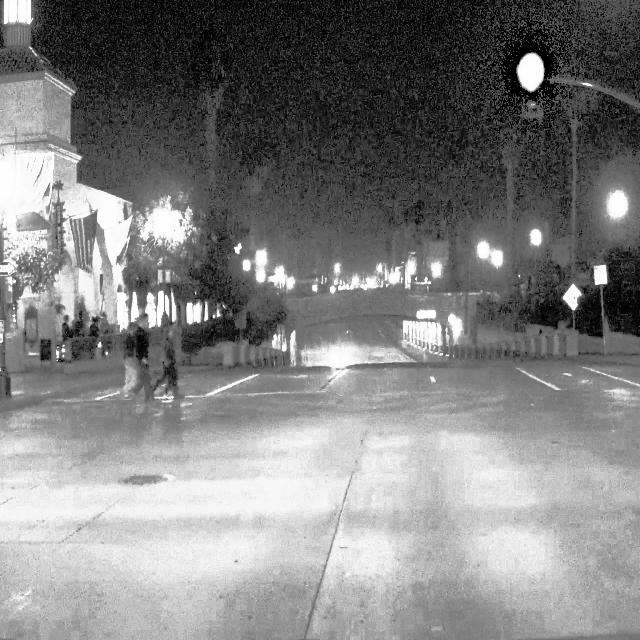Light: (518, 51, 544, 125)
Sign: (562, 281, 584, 311)
